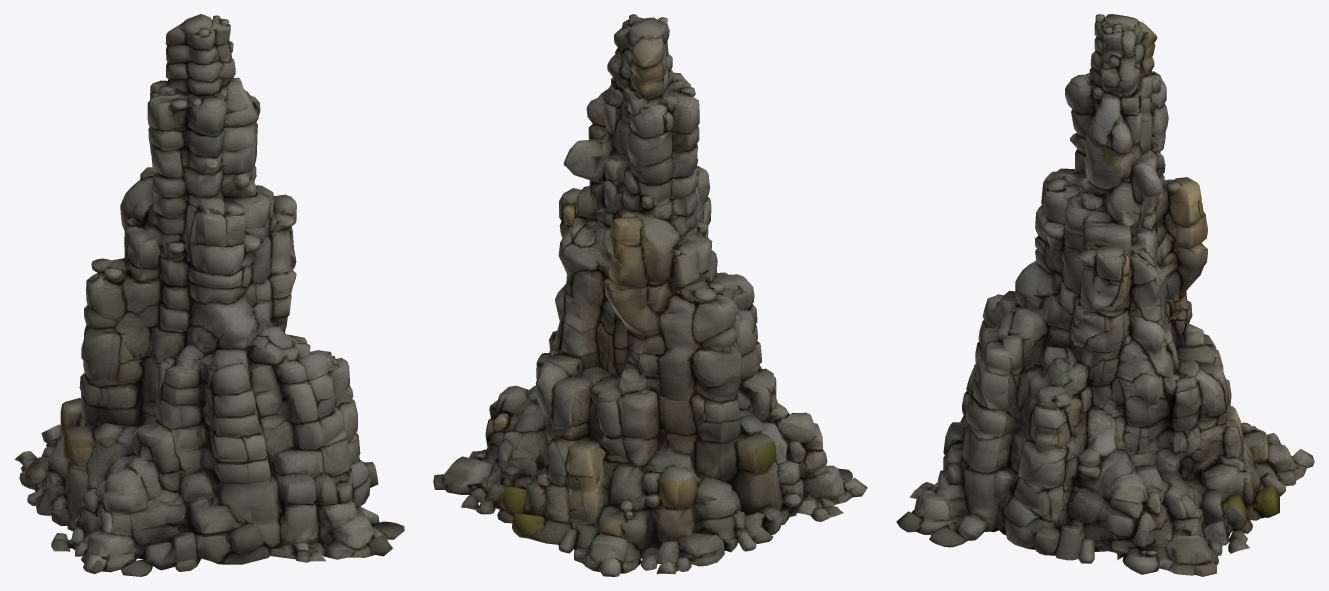
3 renders of one model, left to right at view 1: azimuth 30°, elevation 25°; view 2: azimuth 150°, elevation 25°; view 3: azimuth 270°, elevation 25°, orthographic.
Visible parts, largest first — view 1: tripo_node_c98d8da4-0ffd-41ae-8e3e-9d41f183b0bf; view 2: tripo_node_c98d8da4-0ffd-41ae-8e3e-9d41f183b0bf; view 3: tripo_node_c98d8da4-0ffd-41ae-8e3e-9d41f183b0bf.
Part boxes in pixels (x1=…): tripo_node_c98d8da4-0ffd-41ae-8e3e-9d41f183b0bf: x1=14, y1=14, x2=404, y2=576; tripo_node_c98d8da4-0ffd-41ae-8e3e-9d41f183b0bf: x1=433, y1=14, x2=867, y2=576; tripo_node_c98d8da4-0ffd-41ae-8e3e-9d41f183b0bf: x1=896, y1=14, x2=1314, y2=576.
Size of the model in its own units: 0.7598 by 0.998 by 0.7949.
Materials: 1 (1 with a texture image).
